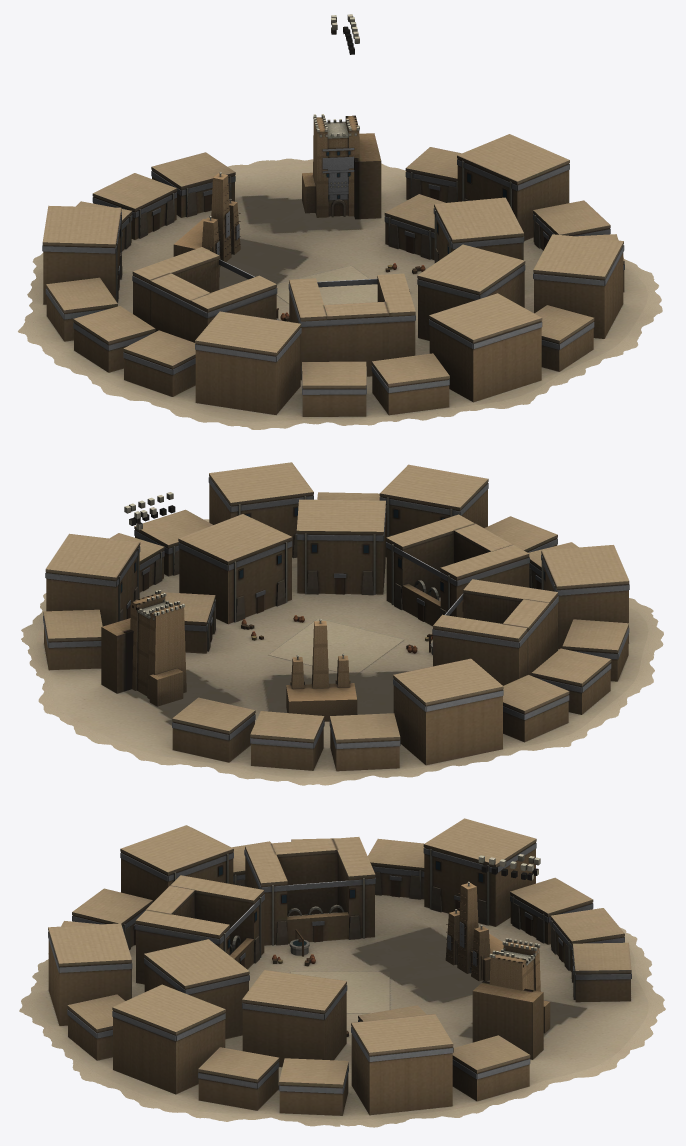
Rendered from kingdoms-town-big-b-maghreb-71fcf33f.glb.
3 views of the same model, one above another, from view 1: azimuth 30°, elevation 25°; view 2: azimuth 150°, elevation 25°; view 3: azimuth 270°, elevation 25° (orthographic).
Visible parts, largest first — view 1: LOD0; view 2: LOD0; view 3: LOD0.
Part boxes in pixels (box(x1,y1,x2,y2)): LOD0: box(18, 14, 662, 429); LOD0: box(21, 462, 663, 785); LOD0: box(19, 818, 665, 1127).
Size of what is drawn, in the model's own units: 7.92 by 2.47 by 7.98.
3 materials, 3 textured.
